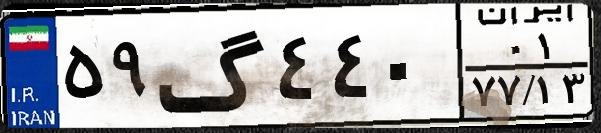0: (385, 28, 445, 110), (508, 27, 537, 80)
1: (537, 27, 568, 80), (535, 70, 560, 125)
3: (560, 70, 590, 125)
4: (270, 28, 330, 110), (330, 28, 385, 110)
5: (57, 26, 110, 100)
7: (470, 70, 495, 125), (495, 70, 520, 125)
9: (110, 28, 156, 98)
گ: (156, 12, 270, 120)
